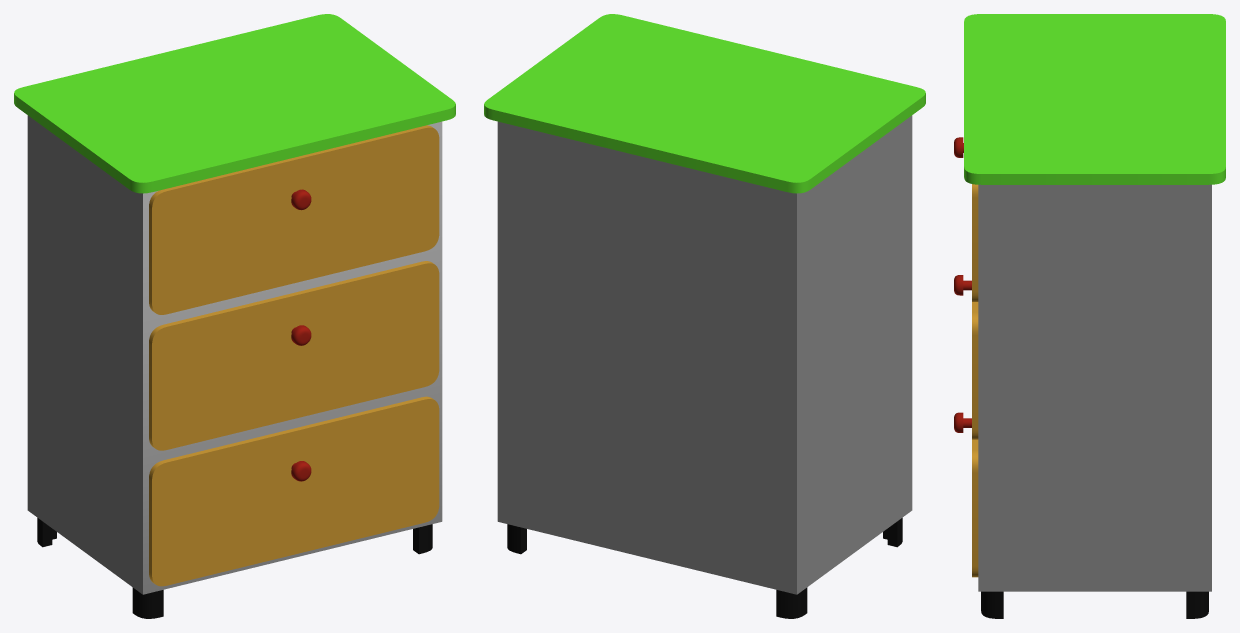
Rendered from tumba-.fbx.
3 views of the same model, side by side, from view 1: azimuth 30°, elevation 25°; view 2: azimuth 150°, elevation 25°; view 3: azimuth 270°, elevation 25° (orthographic).
Parts seen in each view (by area): view 1: Object002, Object001; view 2: Object001; view 3: Object001, Object002.
Part boxes in pixels (x1,y1,x2,y2): Object002: [149, 125, 439, 586]; Object001: [14, 14, 455, 618]; Object001: [484, 14, 925, 618]; Object001: [964, 14, 1225, 618]; Object002: [954, 137, 978, 577].
Bounding box in the file's own units: 32.41 × 42.71 × 23.28.
